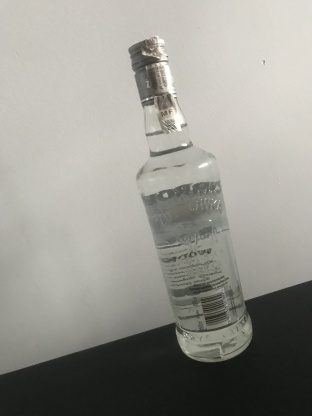nakretka: (126, 33, 178, 110)
